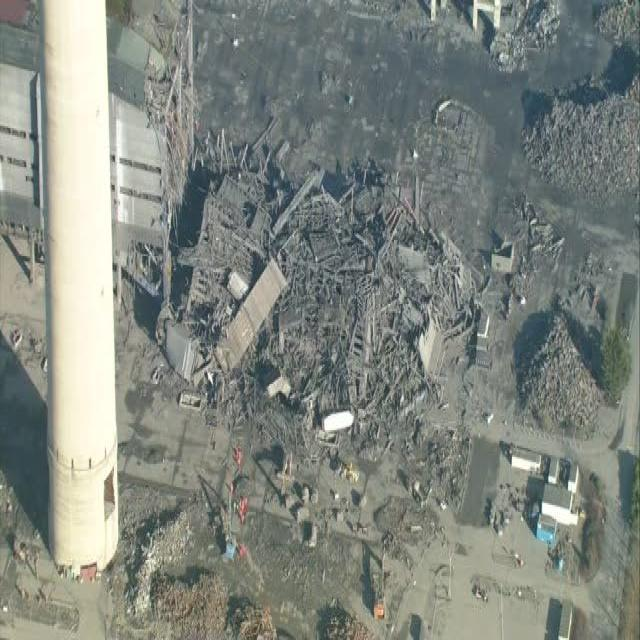collapsed_building: (184, 151, 453, 432)
